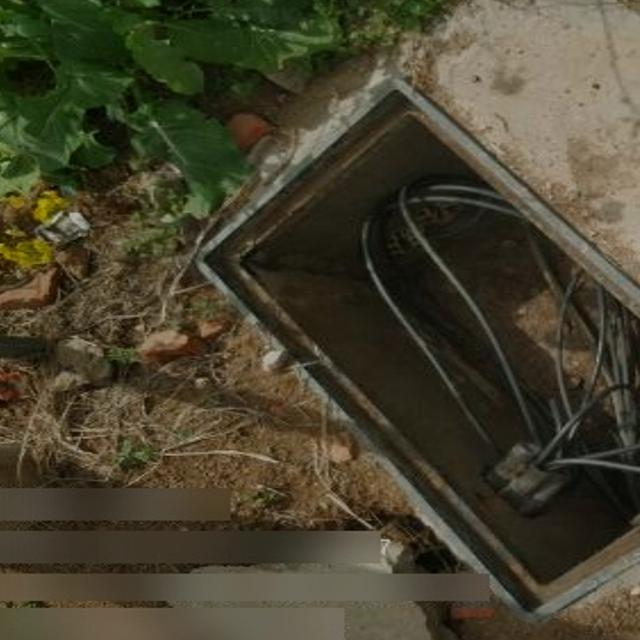lose: (192, 75, 640, 633)
